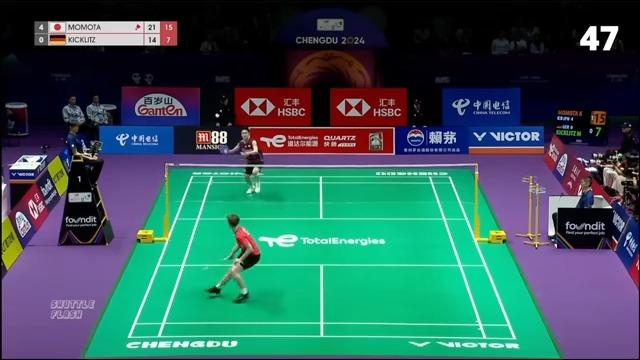Shuttlecock: (214, 112, 220, 120)
